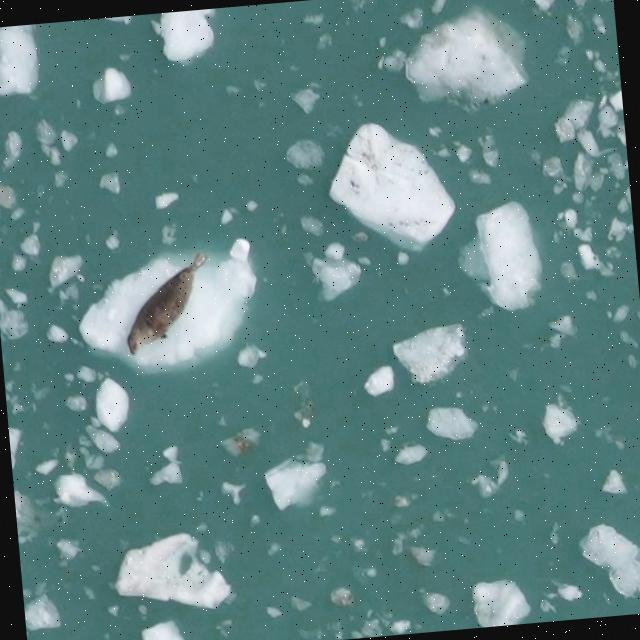seal: (116, 237, 215, 366)
